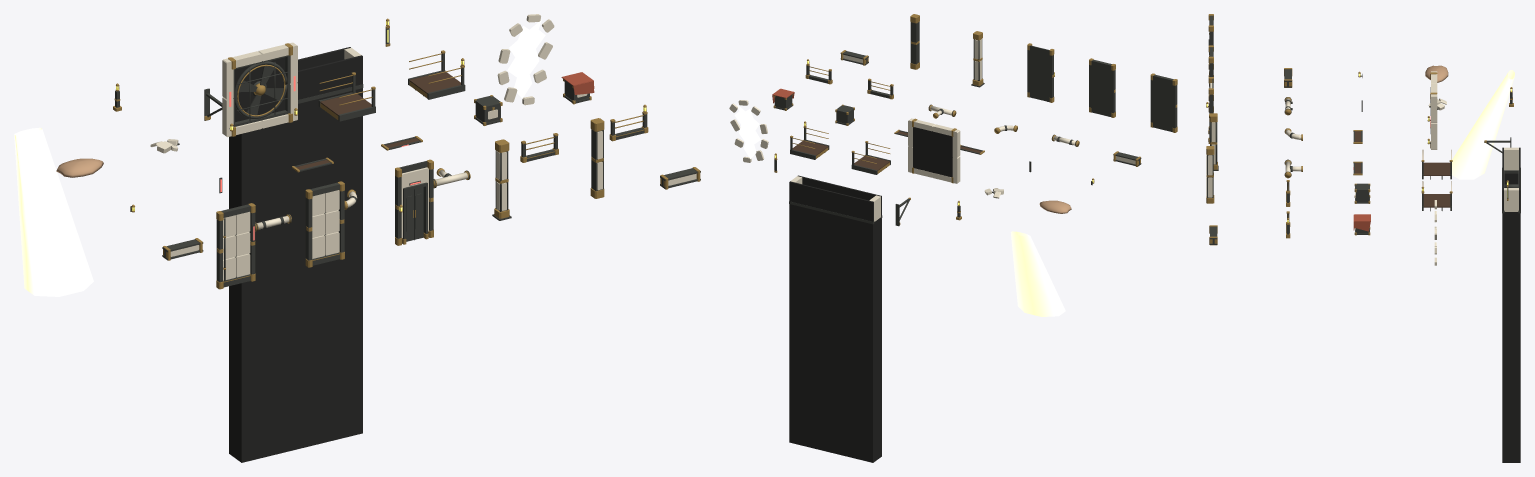
The model's file is kit_ruins_b1.glb.
3 views of the same model, side by side, from view 1: azimuth 30°, elevation 25°; view 2: azimuth 150°, elevation 25°; view 3: azimuth 270°, elevation 25° (orthographic). The views are drawn at different scales.
Visible parts, largest first — view 1: b1_pit, b1_shaft, b1_fan, b1_wall_plain, b1_wall, b1_door, b1_crack, b1_walkway_lamp, b1_walkway, b1_pillar, b1_corner, b1_crate_cloth (+2 smaller); view 2: b1_pit, b1_fan, b1_shaft, b1_wall, b1_wall_plain, b1_door, b1_crack, b1_walkway_lamp, b1_walkway, b1_pillar, b1_corner; view 3: b1_pit, b1_shaft, b1_fan, b1_walkway, b1_corner, b1_walkway_lamp, b1_pillar, b1_crate_cloth, b1_crate.
Boxes of the visible parts, left/top/right/bottom form: b1_pit: left=229, top=47, right=363, bottom=462; b1_shaft: left=14, top=127, right=93, bottom=296; b1_fan: left=222, top=42, right=297, bottom=137; b1_wall_plain: left=305, top=181, right=344, bottom=267; b1_wall: left=216, top=203, right=255, bottom=289; b1_door: left=395, top=159, right=433, bottom=245; b1_crack: left=497, top=14, right=554, bottom=105; b1_walkway_lamp: left=408, top=50, right=465, bottom=99; b1_walkway: left=318, top=72, right=375, bottom=121; b1_pillar: left=492, top=139, right=511, bottom=220; b1_corner: left=590, top=118, right=604, bottom=198; b1_crate_cloth: left=561, top=72, right=594, bottom=104; b1_pit: left=789, top=175, right=882, bottom=462; b1_fan: left=908, top=118, right=960, bottom=183; b1_shaft: left=1010, top=231, right=1065, bottom=316; b1_wall: left=1150, top=73, right=1177, bottom=132; b1_wall_plain: left=1089, top=58, right=1115, bottom=117; b1_door: left=1027, top=43, right=1054, bottom=102; b1_crack: left=729, top=100, right=768, bottom=162; b1_walkway_lamp: left=790, top=121, right=829, bottom=159; b1_walkway: left=851, top=141, right=890, bottom=174; b1_pillar: left=971, top=31, right=984, bottom=87; b1_corner: left=910, top=14, right=919, bottom=69; b1_pit: left=1502, top=147, right=1520, bottom=462; b1_shaft: left=1452, top=70, right=1514, bottom=179; b1_fan: left=1427, top=71, right=1437, bottom=149; b1_walkway: left=1421, top=150, right=1452, bottom=179; b1_corner: left=1206, top=146, right=1214, bottom=203; b1_walkway_lamp: left=1421, top=181, right=1452, bottom=211; b1_pillar: left=1209, top=113, right=1218, bottom=170; b1_crate_cloth: left=1353, top=214, right=1370, bottom=235; b1_crate: left=1354, top=183, right=1370, bottom=203.
Size of the model in its own units: 28.17 by 24.22 by 21.14.
